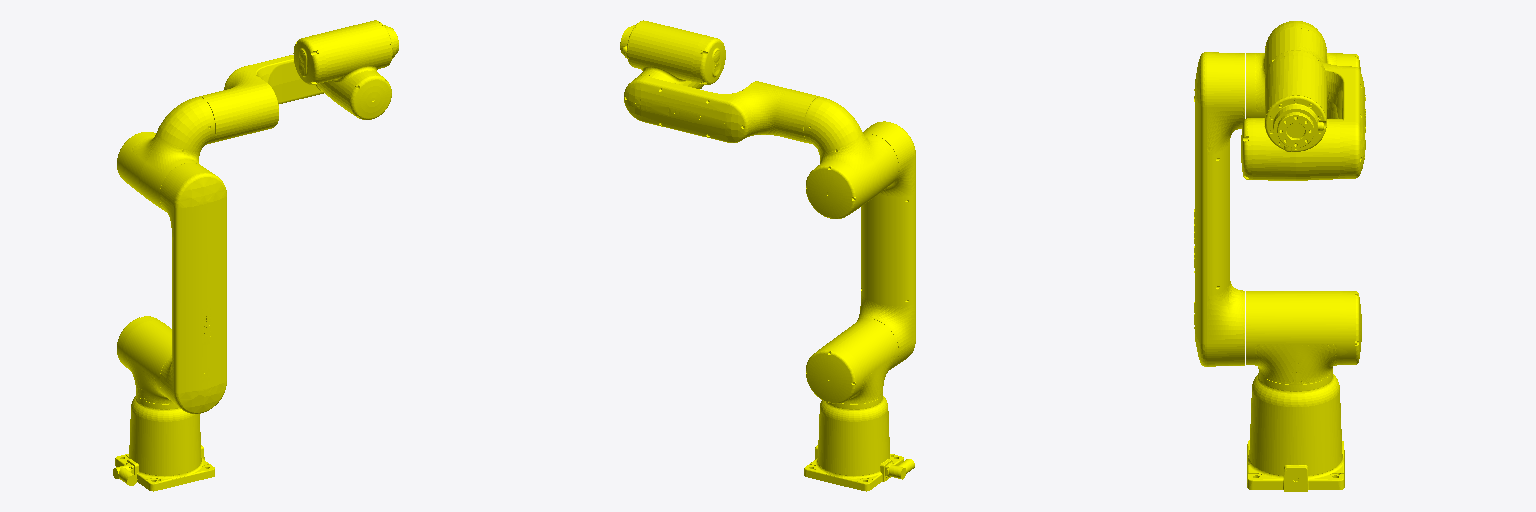
URDF robot description (abb_crb15000_5_95):
<?xml version="1.0" ?>
<!-- =================================================================================== -->
<!-- |    This document was autogenerated by xacro from [local-path]/Projects/mics_ws/src/abb_omnicore_ros2/robot_specific_config/abb_crb15000_support/urdf/crb15000_5_95/crb15000_5_95.xacro | -->
<!-- |    EDITING THIS FILE BY HAND IS NOT RECOMMENDED                                 | -->
<!-- =================================================================================== -->
<robot name="abb_crb15000_5_95">
  <!-- Conversion were obtained from http://www.e-paint.co.uk/Lab_values.asp
       unless otherwise stated. -->
  <!-- link list -->
  <link name="base_link">
    <collision>
      <geometry>
        <mesh filename="collision/base_link.stl"/>
      </geometry>
    </collision>
    <visual>
      <geometry>
        <mesh filename="visual/base_link.dae"/>
      </geometry>
      <material name="">
        <color rgba="1 1 0 1"/>
      </material>
    </visual>
  </link>
  <link name="link_1">
    <collision>
      <geometry>
        <mesh filename="collision/link_1.stl"/>
      </geometry>
    </collision>
    <visual>
      <geometry>
        <mesh filename="visual/link_1.dae"/>
      </geometry>
      <material name="">
        <color rgba="1 1 0 1"/>
      </material>
    </visual>
  </link>
  <link name="link_2">
    <collision>
      <geometry>
        <mesh filename="collision/link_2.stl"/>
      </geometry>
    </collision>
    <visual>
      <geometry>
        <mesh filename="visual/link_2.dae"/>
      </geometry>
      <material name="">
        <color rgba="1 1 0 1"/>
      </material>
    </visual>
  </link>
  <link name="link_3">
    <collision>
      <geometry>
        <mesh filename="collision/link_3.stl"/>
      </geometry>
    </collision>
    <visual>
      <geometry>
        <mesh filename="visual/link_3.dae"/>
      </geometry>
      <material name="">
        <color rgba="1 1 0 1"/>
      </material>
    </visual>
  </link>
  <link name="link_4">
    <collision>
      <geometry>
        <mesh filename="collision/link_4.stl"/>
      </geometry>
    </collision>
    <visual>
      <geometry>
        <mesh filename="visual/link_4.dae"/>
      </geometry>
      <material name="">
        <color rgba="1 1 0 1"/>
      </material>
    </visual>
  </link>
  <link name="link_5">
    <collision>
      <geometry>
        <mesh filename="collision/link_5.stl"/>
      </geometry>
    </collision>
    <visual>
      <geometry>
        <mesh filename="visual/link_5.dae"/>
      </geometry>
      <material name="">
        <color rgba="1 1 0 1"/>
      </material>
    </visual>
  </link>
  <link name="link_6">
    <collision>
      <geometry>
        <mesh filename="collision/link_6.stl"/>
      </geometry>
    </collision>
    <visual>
      <geometry>
        <mesh filename="visual/link_6.dae"/>
      </geometry>
      <material name="">
        <color rgba="1 1 0 1"/>
      </material>
    </visual>
  </link>
  <!-- end of link list -->
  <!-- joint list -->
  <joint name="joint_1" type="revolute">
    <origin rpy="0 0 0" xyz="0 0 0.265"/>
    <axis xyz="0 0 1"/>
    <parent link="base_link"/>
    <child link="link_1"/>
    <!-- See note in package.xml about effort limits -->
    <limit effort="1000" lower="-3.141592653589793" upper="3.141592653589793" velocity="2.181661564992912"/>
  </joint>
  <joint name="joint_2" type="revolute">
    <origin rpy="0 0 0" xyz="0 0 0"/>
    <axis xyz="0 1 0"/>
    <parent link="link_1"/>
    <child link="link_2"/>
    <!-- See note in package.xml about effort limits -->
    <limit effort="1000" lower="-3.141592653589793" upper="3.141592653589793" velocity="2.181661564992912"/>
  </joint>
  <joint name="joint_3" type="revolute">
    <origin rpy="0 0 0" xyz="0 0 0.444"/>
    <axis xyz="0 1 0"/>
    <parent link="link_2"/>
    <child link="link_3"/>
    <!-- See note in package.xml about effort limits -->
    <limit effort="1000" lower="-3.9269908169872414" upper="1.4835298641951802" velocity="2.443460952792061"/>
  </joint>
  <joint name="joint_4" type="revolute">
    <origin rpy="0 0 0" xyz="0 0 0.110"/>
    <axis xyz="1 0 0"/>
    <parent link="link_3"/>
    <child link="link_4"/>
    <!-- See note in package.xml about effort limits -->
    <limit effort="1000" lower="-3.141592653589793" upper="3.141592653589793" velocity="3.490658503988659"/>
  </joint>
  <joint name="joint_5" type="revolute">
    <origin rpy="0 0 0" xyz="0.470 0 0"/>
    <axis xyz="0 1 0"/>
    <parent link="link_4"/>
    <child link="link_5"/>
    <!-- See note in package.xml about effort limits -->
    <limit effort="1000" lower="-3.141592653589793" upper="3.141592653589793" velocity="3.490658503988659"/>
  </joint>
  <joint name="joint_6" type="revolute">
    <origin rpy="0 0 0" xyz="0.101 0 0.080"/>
    <axis xyz="1 0 0"/>
    <parent link="link_5"/>
    <child link="link_6"/>
    <!-- See note in package.xml about effort limits -->
    <limit effort="1000" lower="-4.71238898038469" upper="4.71238898038469" velocity="3.490658503988659"/>
  </joint>
  <!-- end of joint list -->
  <!-- ROS-Industrial 'base' frame: base_link to ABB World Coordinates transform -->
  <link name="base"/>
  <joint name="base_link-base" type="fixed">
    <origin rpy="0 0 0" xyz="0 0 0"/>
    <parent link="base_link"/>
    <child link="base"/>
  </joint>
  <!-- ROS-Industrial 'flange' frame: attachment point for EEF models -->
  <link name="flange"/>
  <joint name="joint_6-flange" type="fixed">
    <origin rpy="0 0 0" xyz="0 0 0"/>
    <parent link="link_6"/>
    <child link="flange"/>
  </joint>
  <!-- ROS-Industrial 'tool0' frame: all-zeros tool frame -->
  <link name="tool0"/>
  <joint name="flange-tool0" type="fixed">
    <origin rpy="0 1.5707963267948966 0" xyz="0 0 0"/>
    <parent link="flange"/>
    <child link="tool0"/>
  </joint>
  <ros2_control name="ABBMultiInterfaceHardware" type="system">
    <hardware>
      <plugin>mock_components/GenericSystem</plugin>
      <param name="mock_sensor_commands">false</param>
      <param name="calculate_dynamics">true</param>
      <param name="state_following_offset">0.0</param>
    </hardware>
    <joint name="joint_1">
      <command_interface name="position">
        <param name="min">-3.141592653589793</param>
        <param name="max">3.141592653589793</param>
      </command_interface>
      <command_interface name="velocity"/>
      <state_interface name="position">
        <param name="initial_value">0.0</param>
      </state_interface>
      <state_interface name="velocity"/>
    </joint>
    <joint name="joint_2">
      <command_interface name="position">
        <param name="min">-3.141592653589793</param>
        <param name="max">3.141592653589793</param>
      </command_interface>
      <command_interface name="velocity"/>
      <state_interface name="position">
        <param name="initial_value">0.0</param>
      </state_interface>
      <state_interface name="velocity"/>
    </joint>
    <joint name="joint_3">
      <command_interface name="position">
        <param name="min">-3.9269908169872414</param>
        <param name="max">1.4835298641951802</param>
      </command_interface>
      <command_interface name="velocity"/>
      <state_interface name="position">
        <param name="initial_value">0.0</param>
      </state_interface>
      <state_interface name="velocity"/>
    </joint>
    <joint name="joint_4">
      <command_interface name="position">
        <param name="min">-3.141592653589793</param>
        <param name="max">3.141592653589793</param>
      </command_interface>
      <command_interface name="velocity"/>
      <state_interface name="position">
        <param name="initial_value">0.0</param>
      </state_interface>
      <state_interface name="velocity"/>
    </joint>
    <joint name="joint_5">
      <command_interface name="position">
        <param name="min">-3.141592653589793</param>
        <param name="max">3.141592653589793</param>
      </command_interface>
      <command_interface name="velocity"/>
      <state_interface name="position">
        <param name="initial_value">0.0</param>
      </state_interface>
      <state_interface name="velocity"/>
    </joint>
    <joint name="joint_6">
      <command_interface name="position">
        <param name="min">-4.71238898038469</param>
        <param name="max">4.71238898038469</param>
      </command_interface>
      <command_interface name="velocity"/>
      <state_interface name="position">
        <param name="initial_value">0.0</param>
      </state_interface>
      <state_interface name="velocity"/>
    </joint>
  </ros2_control>
</robot>

--- Facts derived from the render (not from the file) ---
The picture shows the robot from 3 angles, left to right: view 1: azimuth 30°, elevation 25°; view 2: azimuth 150°, elevation 25°; view 3: azimuth 270°, elevation 25°; orthographic projection.
Model abb_crb15000_5_95 with 10 links and 9 joints (6 revolute, 3 fixed), rooted at base_link, posed every joint at zero.
Links seen in each view (by area): view 1: link_2, link_5, base_link, link_3, link_4, link_1; view 2: link_2, link_4, link_3, base_link, link_1, link_5; view 3: link_2, base_link, link_1, link_5, link_4, link_6, link_3.
Boxes of the visible links, bbox=[...] form: link_2: bbox=[160, 163, 226, 413]; link_5: bbox=[293, 21, 391, 119]; base_link: bbox=[113, 394, 214, 491]; link_3: bbox=[117, 97, 214, 211]; link_4: bbox=[199, 55, 323, 143]; link_1: bbox=[117, 316, 173, 403]; link_2: bbox=[857, 121, 915, 367]; link_4: bbox=[624, 75, 819, 142]; link_3: bbox=[804, 97, 898, 218]; base_link: bbox=[804, 395, 914, 491]; link_1: bbox=[806, 319, 898, 403]; link_5: bbox=[628, 21, 725, 88]; link_2: bbox=[1194, 52, 1244, 366]; base_link: bbox=[1247, 372, 1344, 491]; link_1: bbox=[1246, 291, 1361, 384]; link_5: bbox=[1241, 50, 1339, 180]; link_4: bbox=[1265, 28, 1365, 178]; link_6: bbox=[1265, 95, 1326, 151]; link_3: bbox=[1246, 21, 1360, 118].
Bounding box of the posed robot: 0.6955 × 0.2902 × 0.9517 m (x, y, z).
7 mesh visuals loaded from 7 distinct referenced files (7 Collada DAE).
